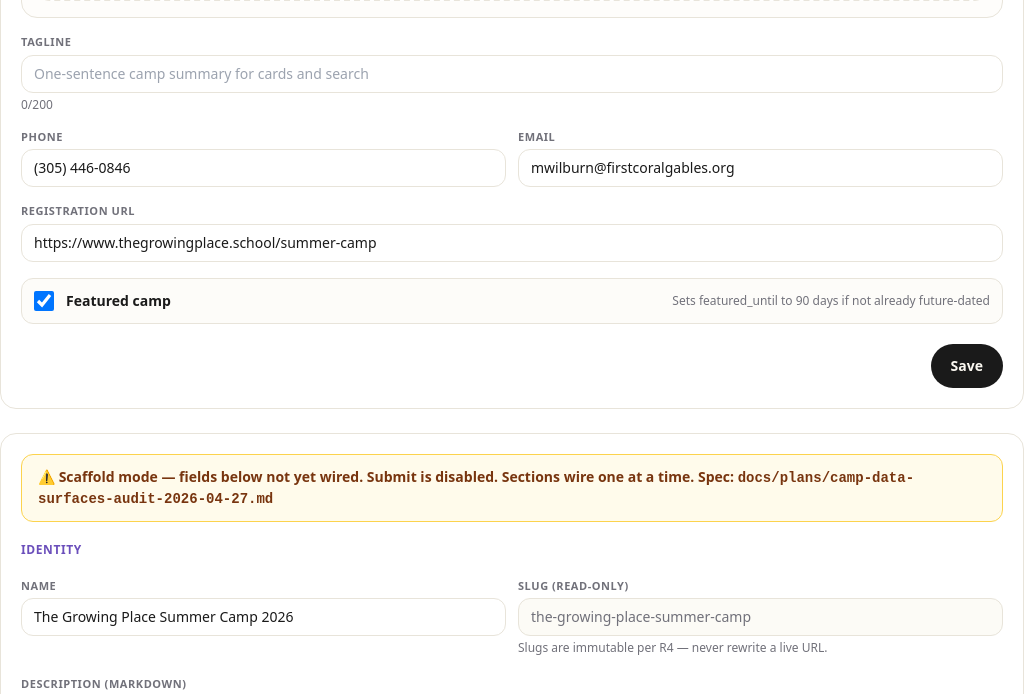
Test: CampEditForm — wired Quick edit form › shows the success indicator after a successful save
(page scrolled)
Click the button with test id "quick-edit-submit" at (967, 366), box [931,344,1003,388]
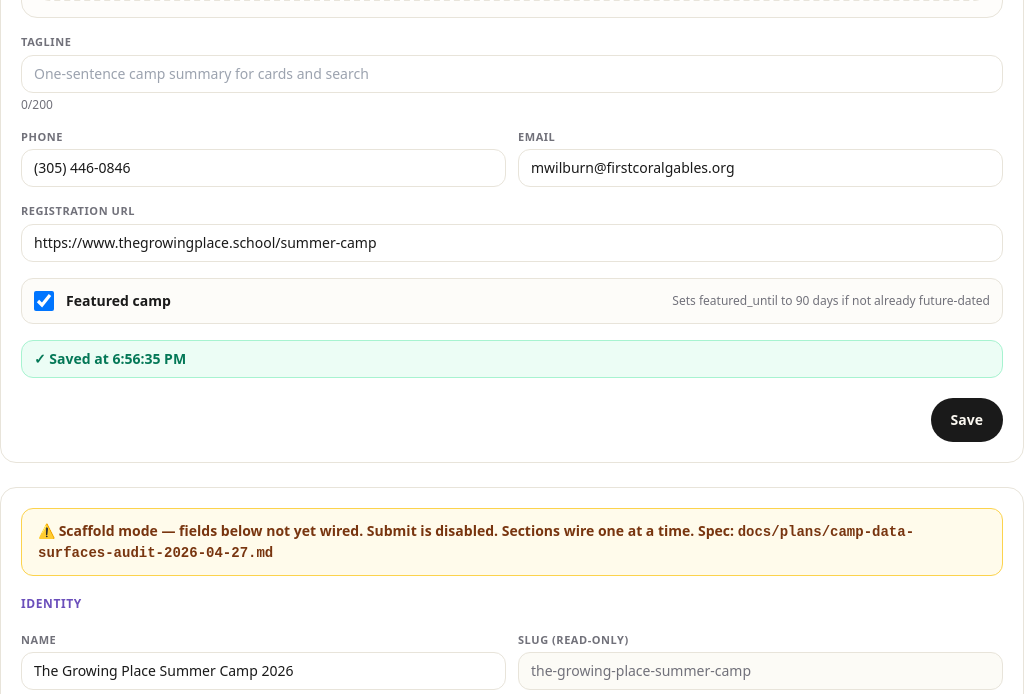
Expected: the text "✓ Saved at 6:56:35 PM" is shown, [21,340,1003,378]
